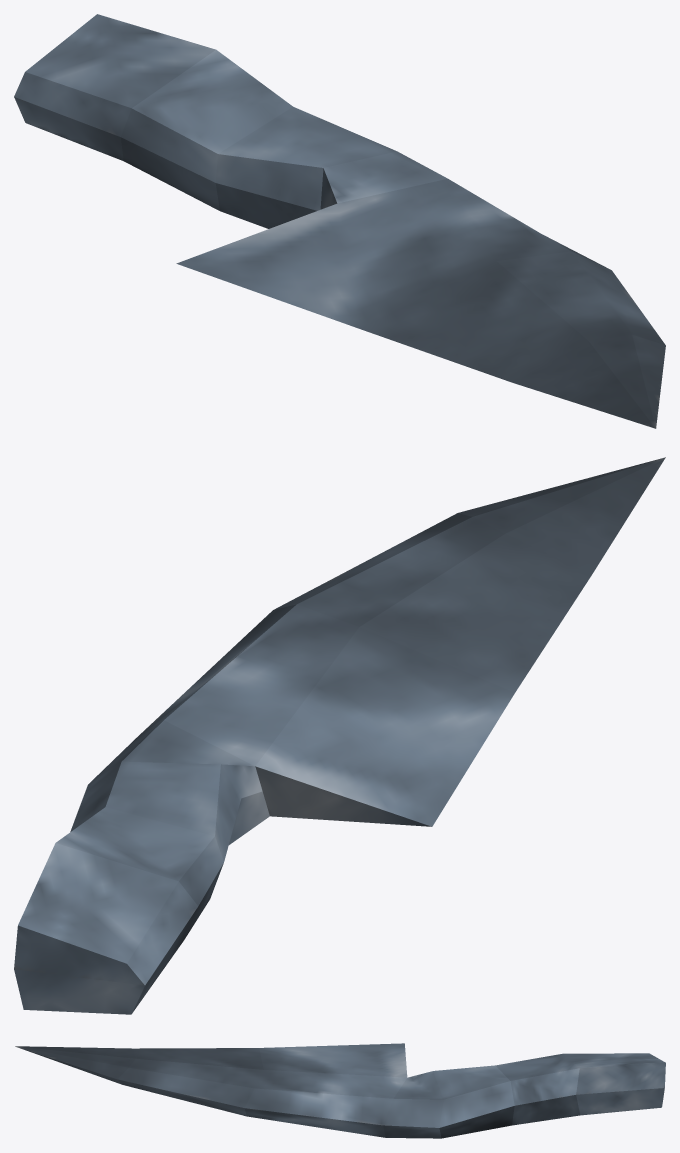
Rendered from zephyrblade.obj.
The picture shows the model from 3 angles, top to bottom: view 1: azimuth 30°, elevation 25°; view 2: azimuth 150°, elevation 25°; view 3: azimuth 270°, elevation 25°; orthographic projection. The views are drawn at different scales.
Parts seen in each view (by area): view 1: Base; view 2: Base; view 3: Base.
Boxes of the visible parts, x1,y1,x2,y2 form: Base: (14,14,665,428); Base: (14,457,665,1014); Base: (15,1043,665,1138).
Bounding box in the file's own units: 0.4592 × 0.1579 × 1.57.
Materials: 1 (1 with a texture image).
